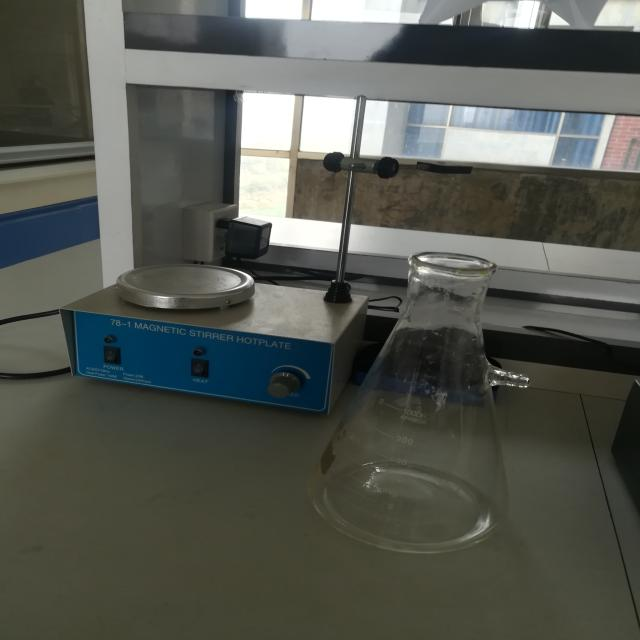Conical_Flask: (284, 215, 556, 605)
